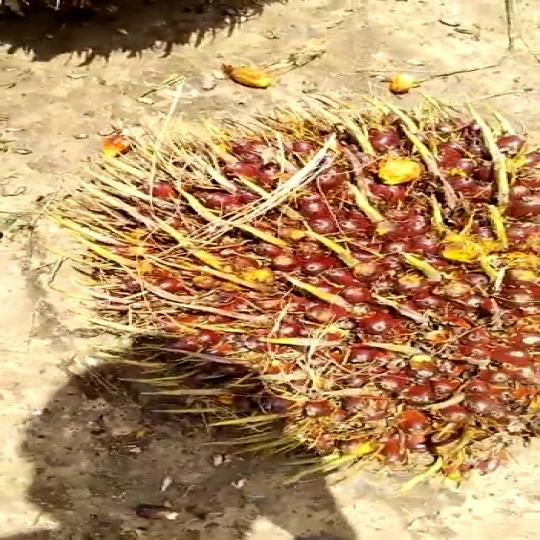masak: (53, 93, 540, 482)
